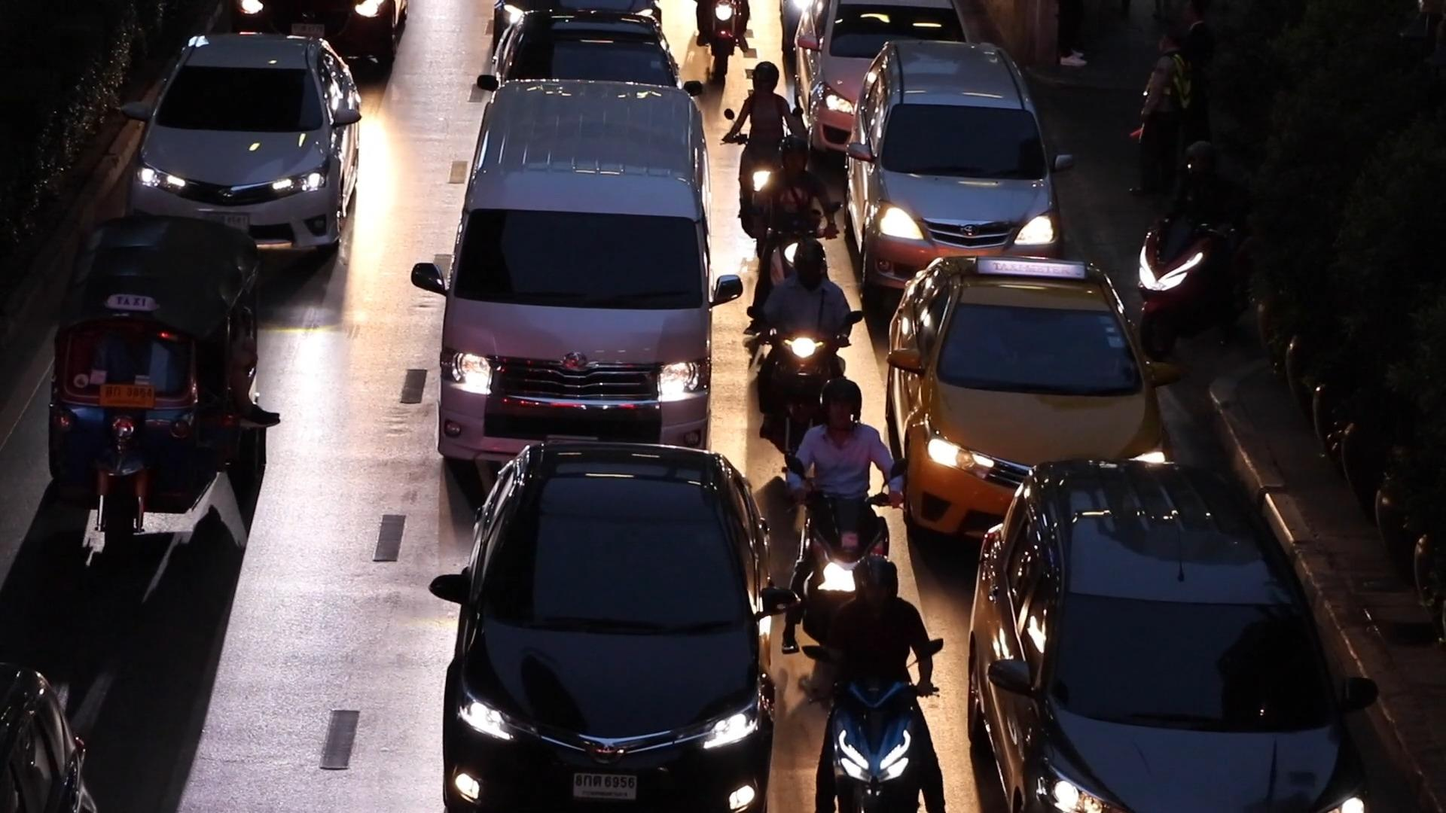driver: (801, 551, 945, 813), (781, 376, 910, 655), (747, 235, 863, 456), (719, 60, 804, 257)
helmet: (851, 551, 899, 611), (820, 377, 863, 434), (793, 236, 828, 288), (777, 133, 810, 178), (752, 60, 780, 95)
